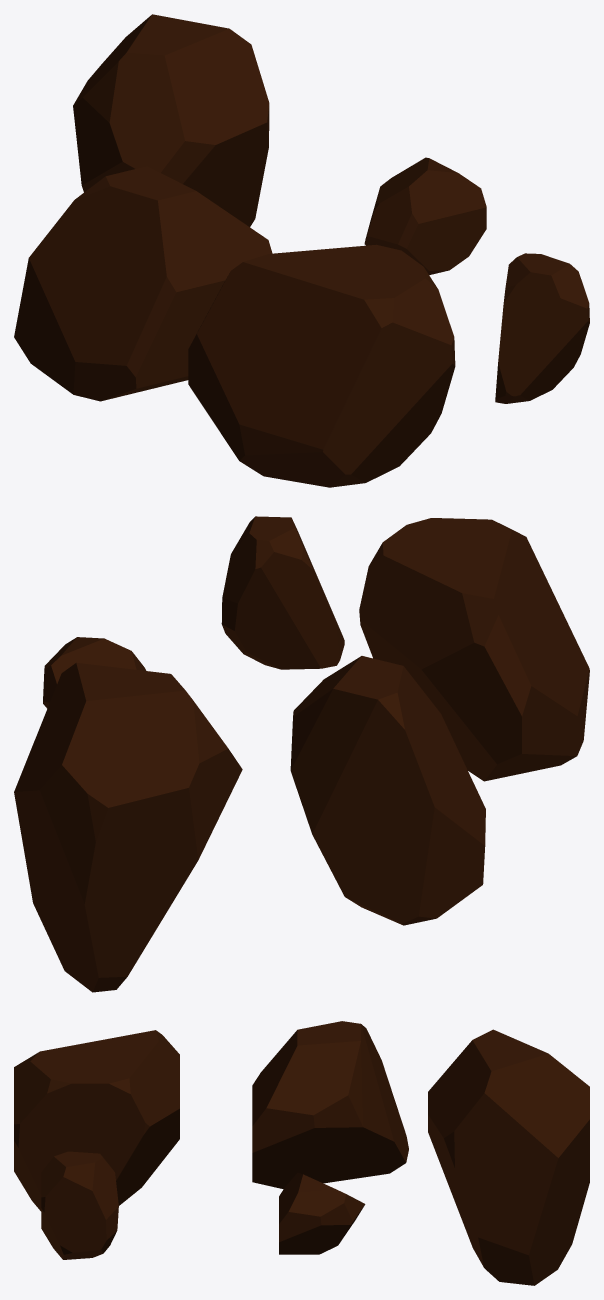
Rendered from asteroides.fbx.
3 views of the same model, one above another, from view 1: azimuth 30°, elevation 25°; view 2: azimuth 150°, elevation 25°; view 3: azimuth 270°, elevation 25° (orthographic). The views are drawn at different scales.
Visible parts, largest first — view 1: Cube.103, Cube.113, Cube.114, Cube.116, Cube.117; view 2: Cube.114, Cube.103, Cube.113, Cube.116, Cube.117; view 3: Cube.114, Cube.103, Cube.113, Cube.116, Cube.117.
Boxes of the visible parts, x1,y1,x2,y2 form: Cube.103: (188,244,455,487); Cube.113: (14,166,272,401); Cube.114: (73,14,269,226); Cube.116: (495,253,589,403); Cube.117: (364,157,486,275); Cube.114: (14,662,242,992); Cube.103: (359,518,589,781); Cube.113: (290,656,485,925); Cube.116: (221,516,344,669); Cube.117: (43,637,146,708); Cube.114: (428,1029,589,1285); Cube.103: (14,1030,179,1211); Cube.113: (252,1021,408,1189); Cube.116: (41,1151,118,1259); Cube.117: (279,1172,365,1254).
Size of the model in its own units: 497 by 314 by 744.
